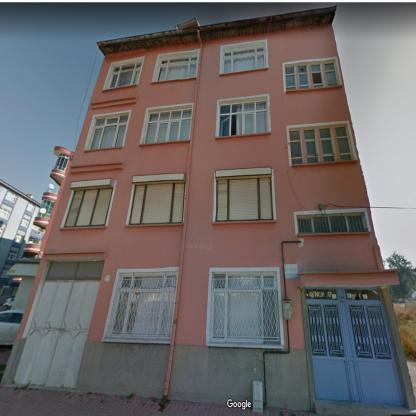door: (307, 288, 402, 404)
window: (212, 274, 279, 341), (110, 275, 177, 336), (289, 126, 353, 164), (216, 180, 272, 221), (130, 183, 185, 224), (219, 100, 268, 136), (65, 188, 112, 225), (144, 108, 192, 143), (285, 61, 338, 90), (89, 114, 129, 150), (298, 214, 364, 233), (223, 45, 266, 72), (156, 56, 197, 80), (109, 62, 141, 88), (36, 200, 55, 218), (53, 154, 70, 171), (0, 204, 12, 220), (5, 190, 17, 203), (14, 233, 24, 244), (7, 250, 18, 260), (20, 218, 30, 227), (26, 203, 35, 212)
